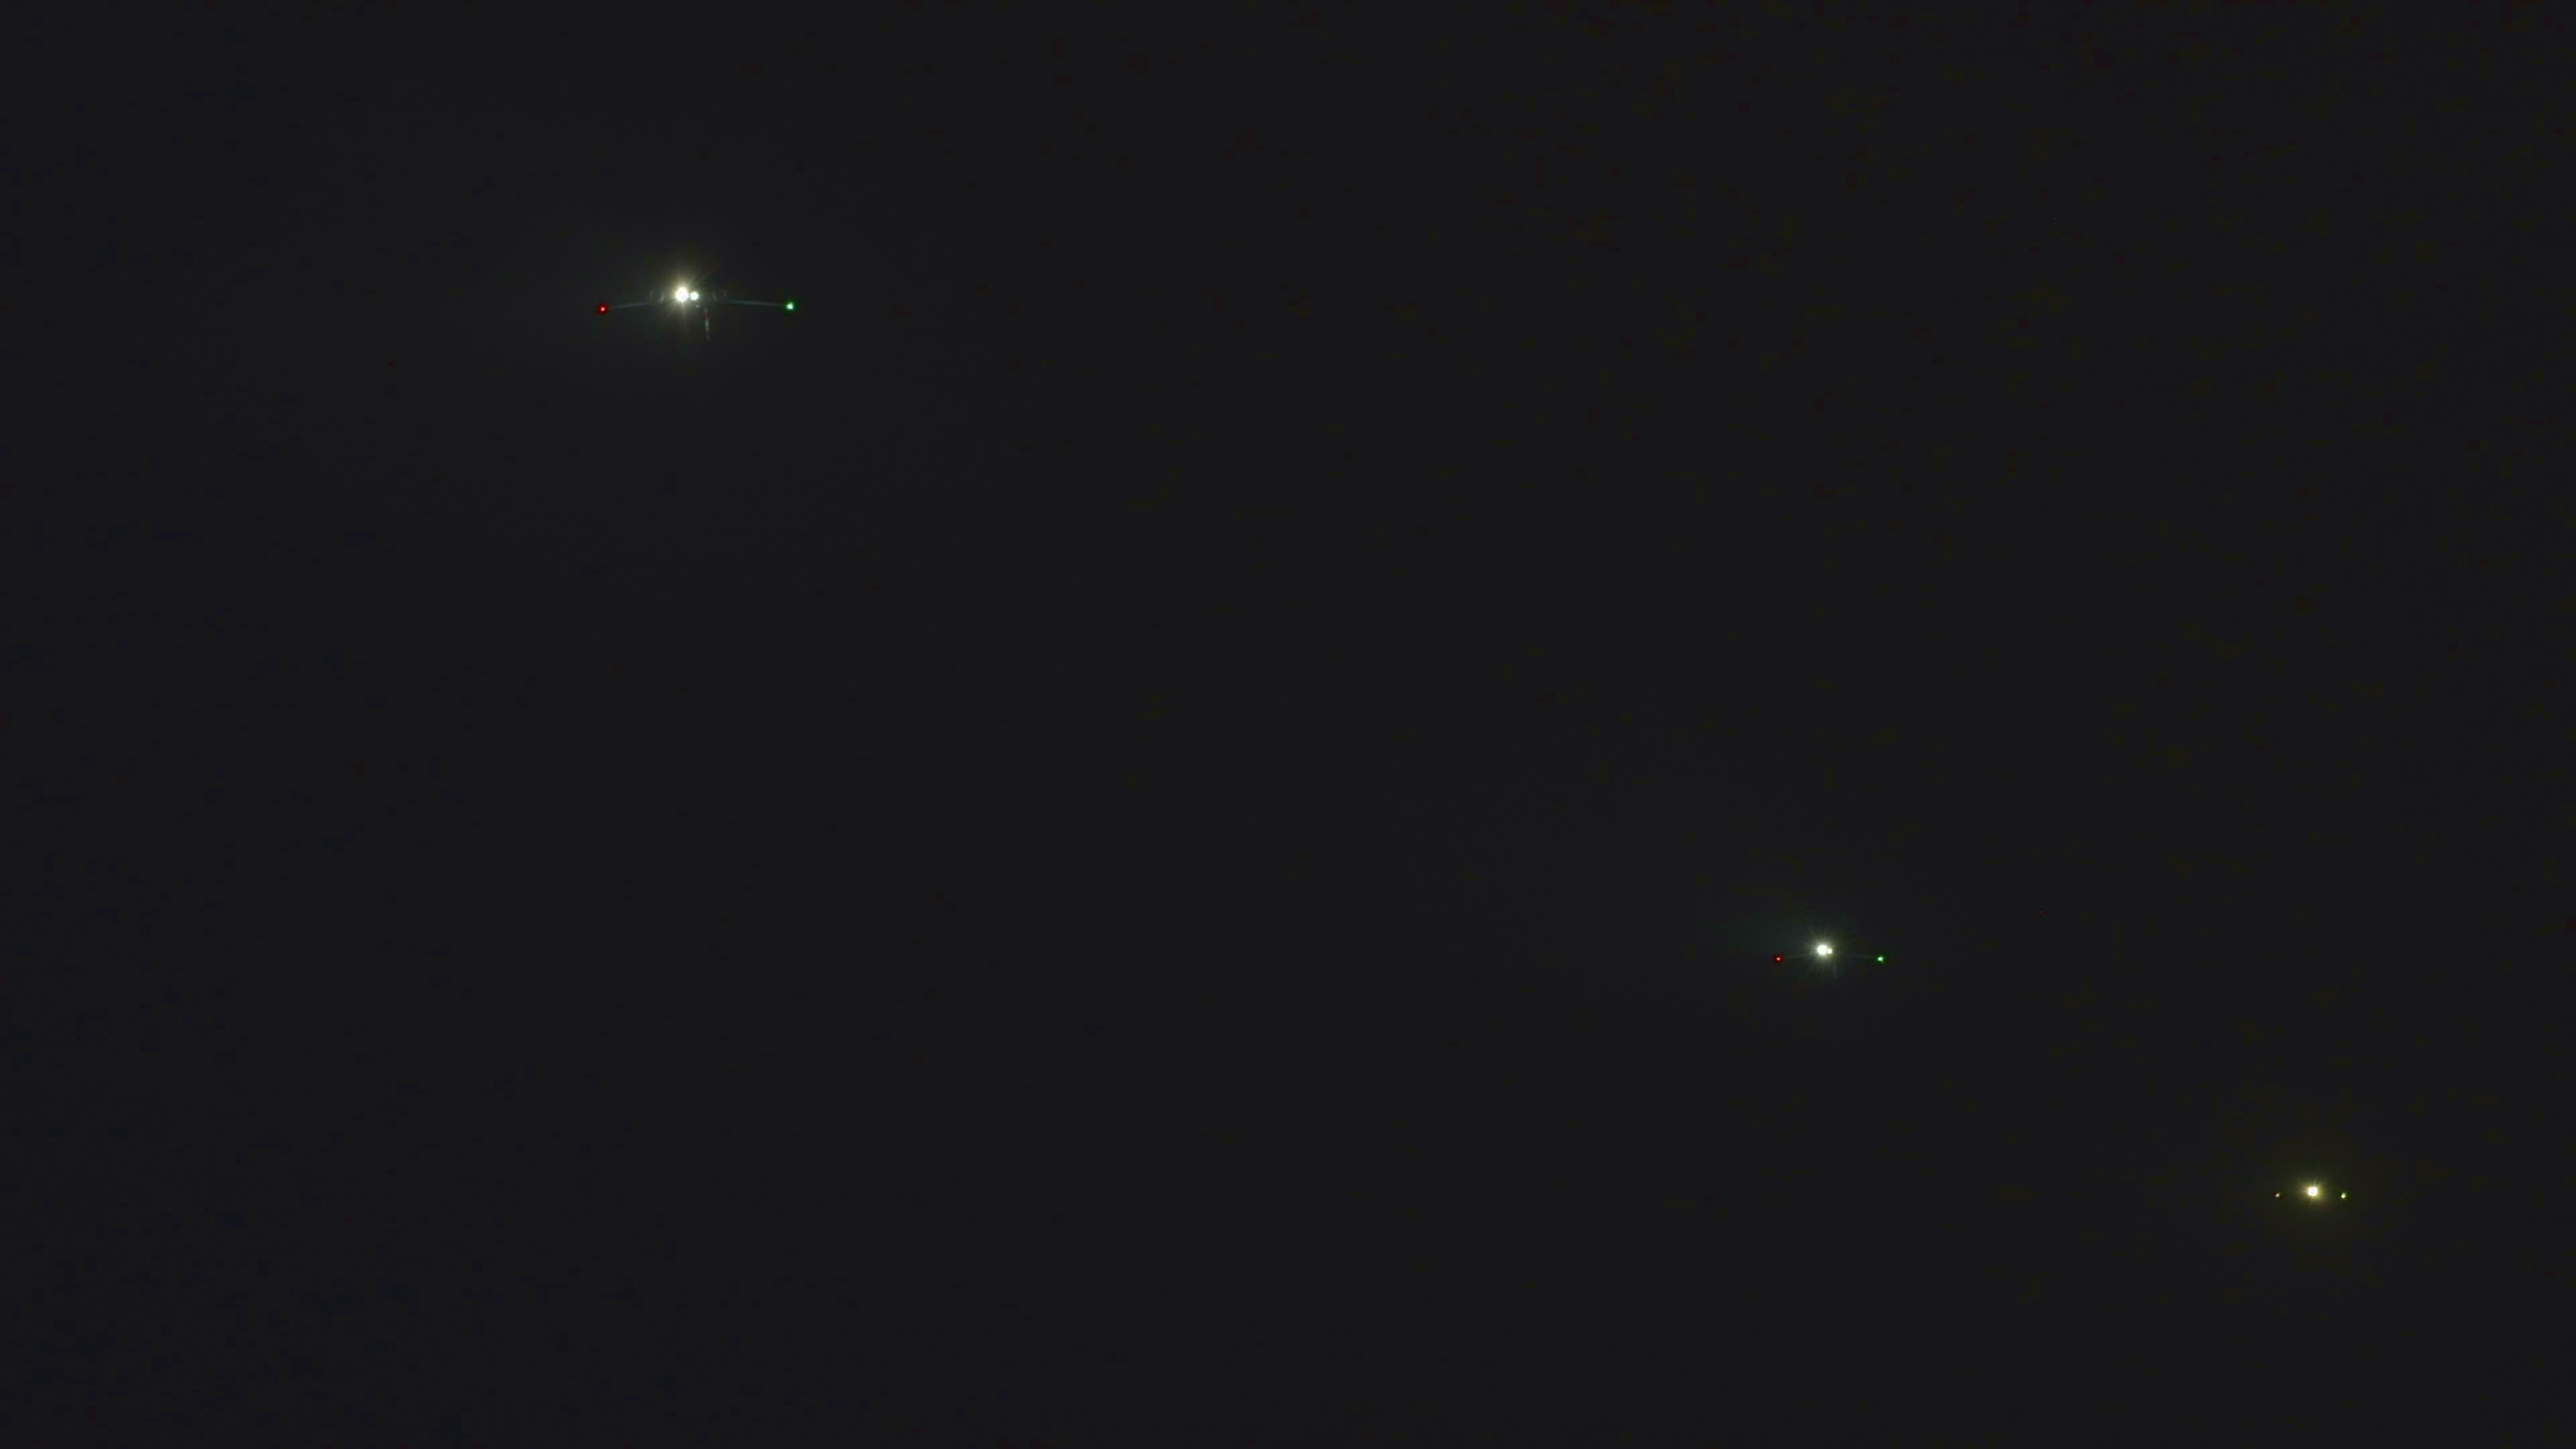Plane: (515, 230, 874, 357), (2226, 1139, 2399, 1247), (1721, 922, 1944, 989)
